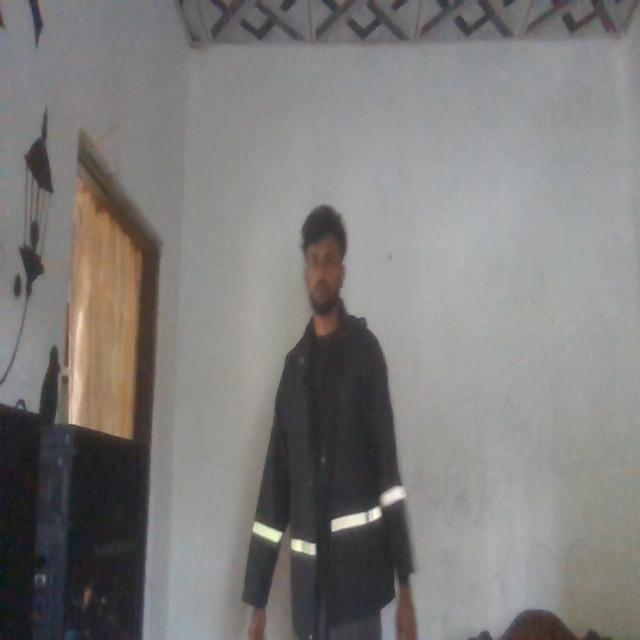Jacket_Wearer: (244, 292, 411, 630)
Person: (237, 199, 428, 640)
